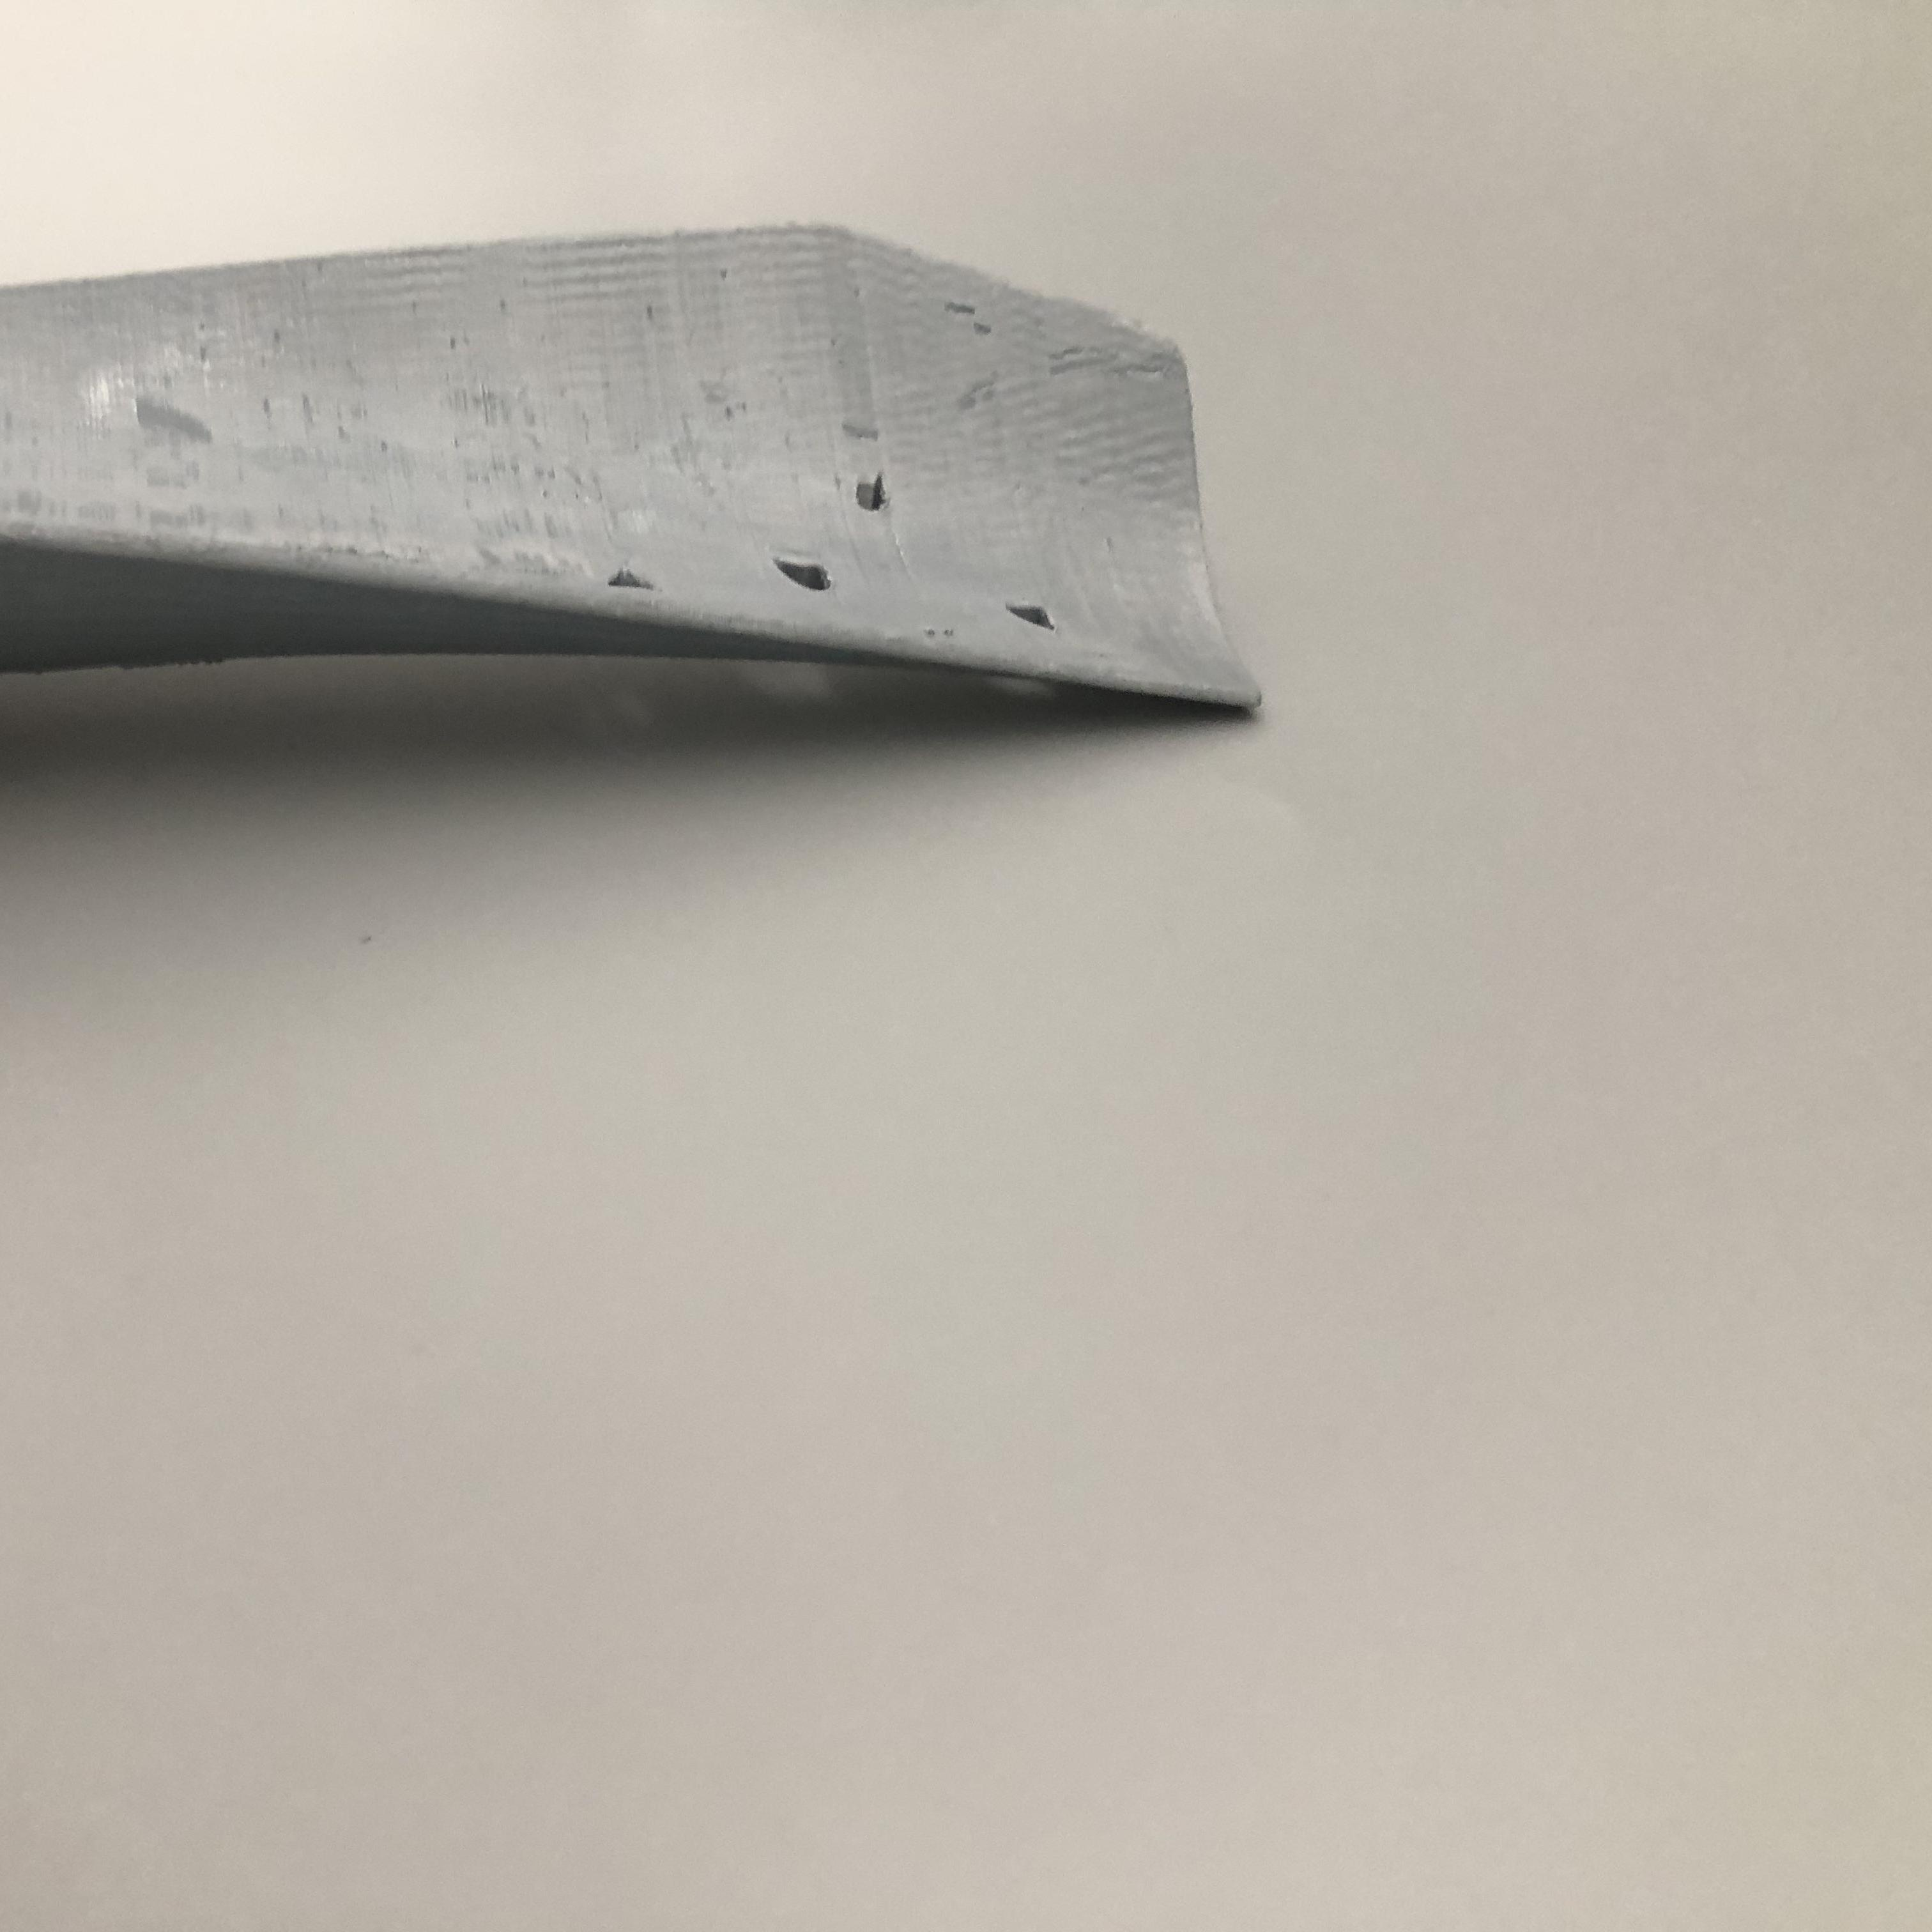breakdown: (614, 469, 911, 616), (998, 594, 1067, 644)
